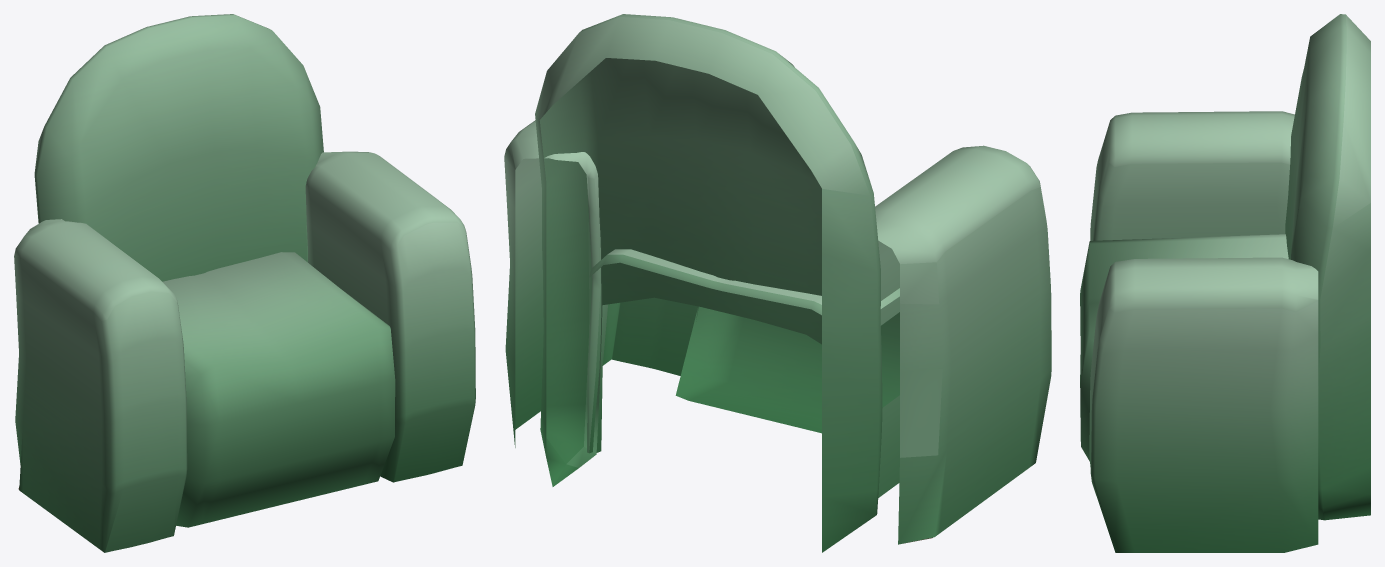
The model's file is mesh_armchair_004.fbx.
3 renders of one model, left to right at view 1: azimuth 30°, elevation 25°; view 2: azimuth 150°, elevation 25°; view 3: azimuth 270°, elevation 25°, orthographic. The views are drawn at different scales.
Visible parts, largest first — view 1: arm_chair; view 2: arm_chair; view 3: arm_chair.
Boxes of the visible parts, <box> form: arm_chair: <box>14,14,475,552</box>; arm_chair: <box>504,14,1051,552</box>; arm_chair: <box>1080,14,1370,552</box>.
Bounding box in the file's own units: 211 × 225 × 141.
